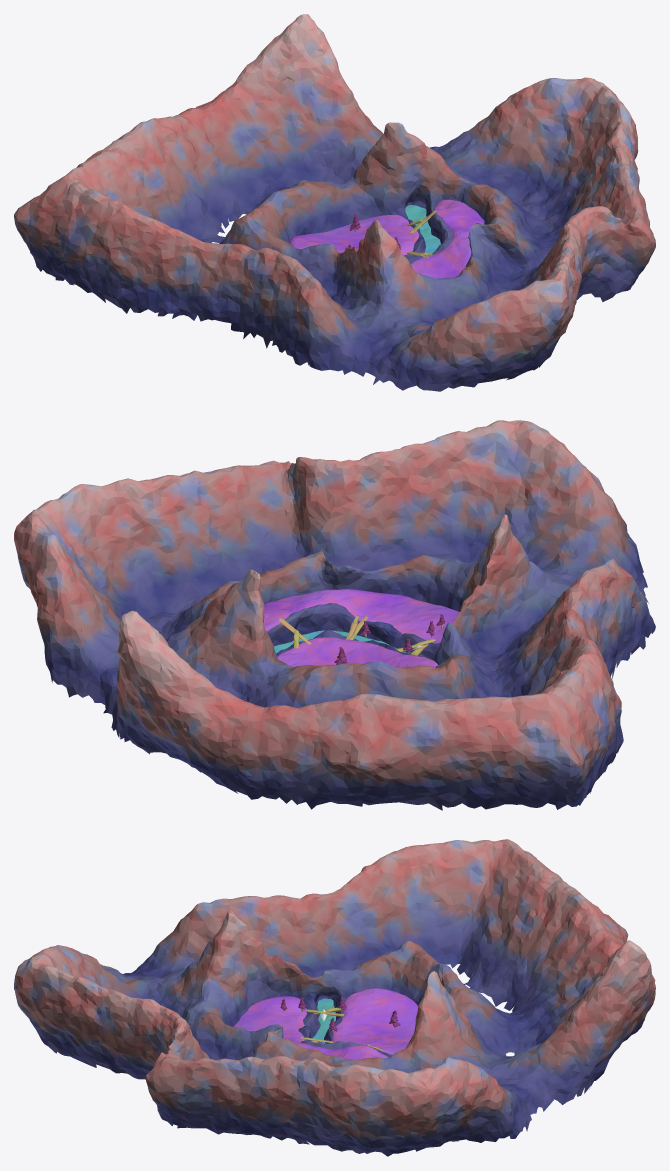
File: Level_4_Art.fbx
3 renders of one model, top to bottom at view 1: azimuth 30°, elevation 25°; view 2: azimuth 150°, elevation 25°; view 3: azimuth 270°, elevation 25°, orthographic. The views are drawn at different scales.
Parts seen in each view (by area): view 1: Mountains, Plains, Plains.001; view 2: Mountains, Plains, Tree.006; view 3: Mountains, Plains, Plains.001.
Boxes of the visible parts, <box> form: Mountains: <box>14,14,655,391</box>; Plains: <box>289,199,484,278</box>; Plains.001: <box>405,205,440,256</box>; Mountains: <box>14,420,655,810</box>; Plains: <box>263,589,459,667</box>; Tree.006: <box>279,616,435,655</box>; Mountains: <box>14,839,655,1156</box>; Plains: <box>234,988,418,1059</box>; Plains.001: <box>310,998,335,1042</box>.
Bounding box in the file's own units: 20523 × 5118 × 20796.
